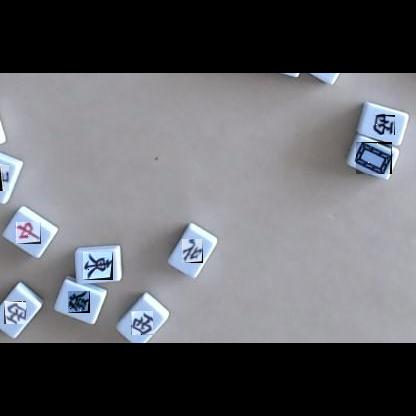1z: (83, 252, 113, 280)
2z: (0, 164, 9, 191)
3z: (131, 311, 153, 335), (4, 301, 26, 324), (373, 115, 395, 135)
4z: (182, 239, 203, 263)
5z: (356, 142, 392, 174)
6z: (68, 291, 90, 313)
7z: (16, 222, 41, 244)
